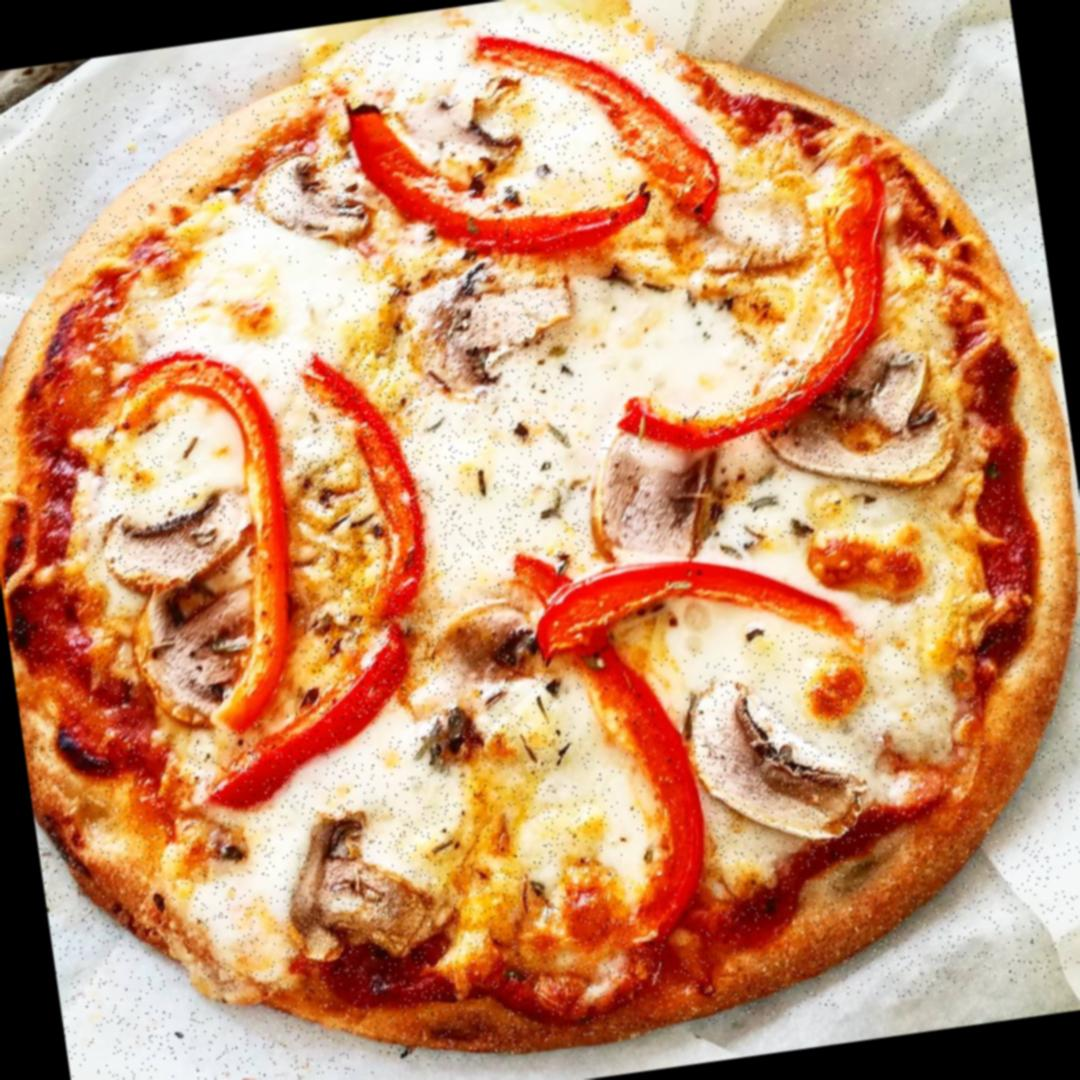Cheese: (419, 402, 583, 572), (182, 218, 356, 353), (573, 282, 748, 416), (325, 728, 458, 868)
Mushroom: (686, 659, 871, 858), (396, 254, 586, 408), (276, 798, 442, 971), (761, 387, 981, 506), (587, 448, 736, 570), (121, 578, 232, 735), (100, 490, 258, 595), (243, 144, 358, 264)
Peppers: (468, 2, 732, 246), (299, 338, 451, 714), (179, 340, 308, 722), (522, 534, 870, 670), (584, 650, 718, 944), (338, 87, 497, 264), (618, 360, 864, 462), (803, 154, 918, 362)
Pizza: (0, 0, 1080, 1080)
